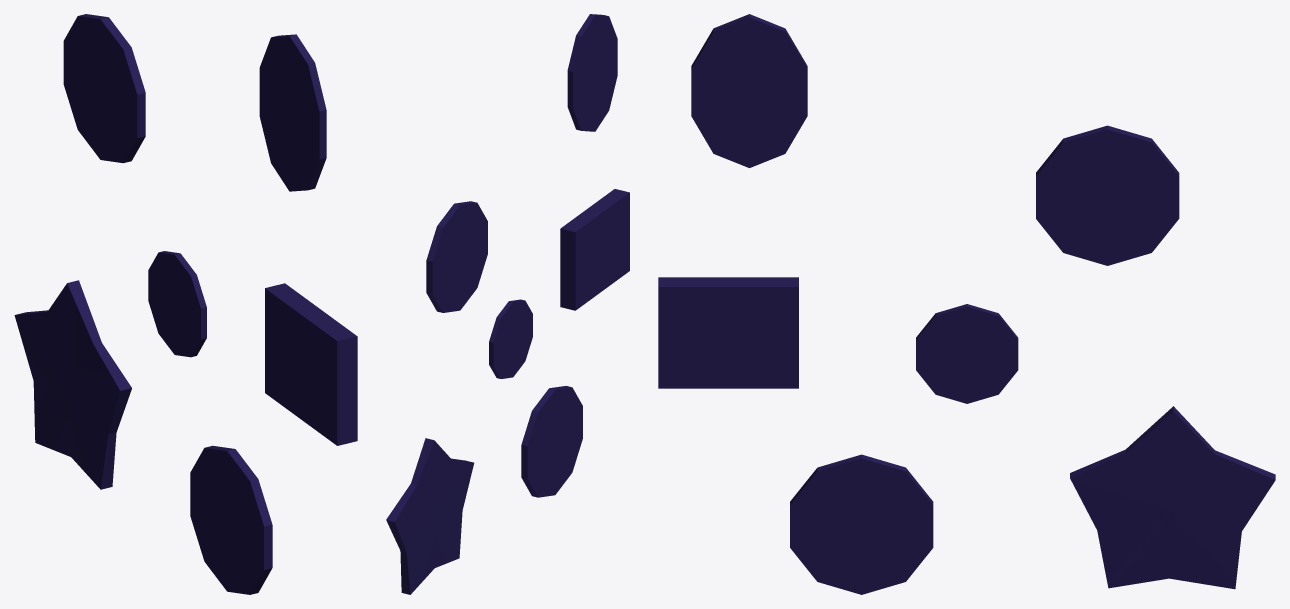
Rendered from magnet.fbx.
3 renders of one model, left to right at view 1: azimuth 30°, elevation 25°; view 2: azimuth 150°, elevation 25°; view 3: azimuth 270°, elevation 25°, orthographic. The views are drawn at different scales.
Visible parts, largest first — view 1: star, rectangle, circlemagnet, circlemagnet2, portal, circlemagnet1; view 2: star, rectangle, circlemagnet2, circlemagnet, portal, circlemagnet1; view 3: star, circlemagnet2, circlemagnet, rectangle, portal, circlemagnet1.
Boxes of the visible parts, box(x1,y1,x2,y2) form: star: box(14, 280, 131, 489); rectangle: box(265, 283, 357, 445); circlemagnet: box(63, 14, 145, 163); circlemagnet2: box(190, 445, 272, 594); portal: box(259, 34, 326, 191); circlemagnet1: box(148, 251, 206, 357); star: box(386, 438, 474, 594); rectangle: box(560, 189, 629, 310); circlemagnet2: box(521, 386, 582, 497); circlemagnet: box(426, 201, 487, 312); portal: box(567, 14, 617, 131); circlemagnet1: box(489, 299, 532, 378); star: box(1070, 406, 1275, 589); circlemagnet2: box(790, 454, 933, 594); circlemagnet: box(1036, 125, 1179, 265); rectangle: box(658, 277, 798, 388); portal: box(691, 14, 807, 167); circlemagnet1: box(916, 304, 1018, 403).
Bounding box in the file's own units: 0.0216 × 0.4839 × 0.4676.
